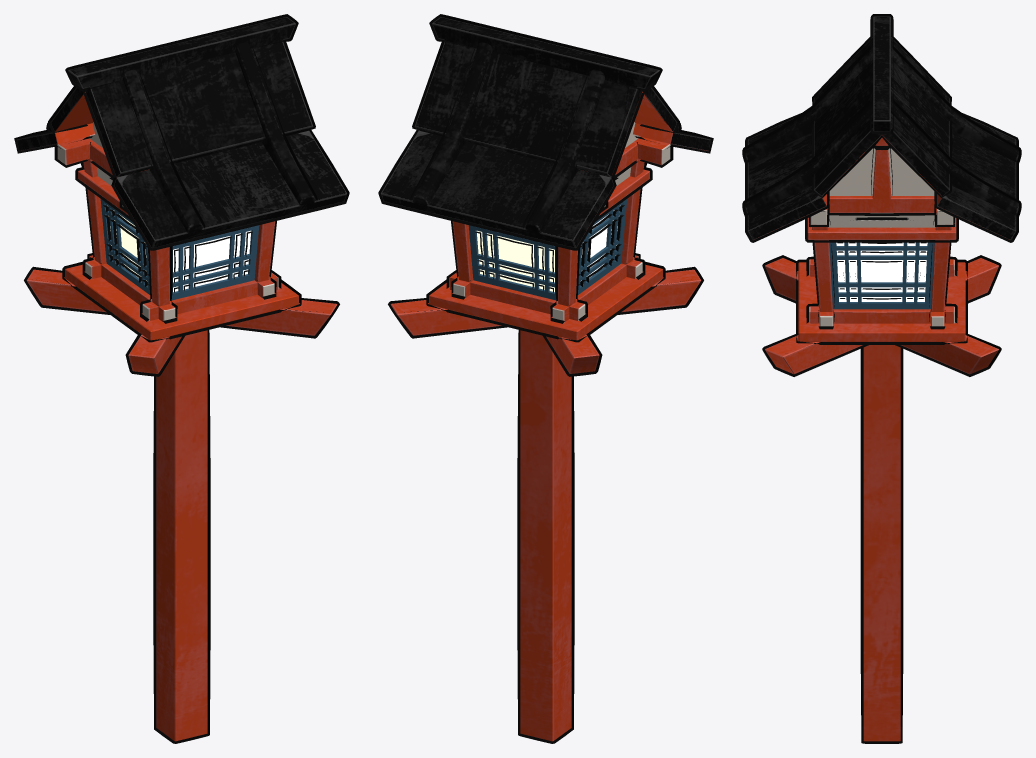
The model's file is Tourou.fbx.
The picture shows the model from 3 angles, left to right: view 1: azimuth 30°, elevation 25°; view 2: azimuth 150°, elevation 25°; view 3: azimuth 270°, elevation 25°; orthographic projection. The views are drawn at different scales.
Visible parts, largest first — view 1: Tourou; view 2: Tourou; view 3: Tourou.
Part boxes in pixels (bbox=[...]): Tourou: bbox=[14, 14, 349, 743]; Tourou: bbox=[378, 14, 713, 743]; Tourou: bbox=[742, 14, 1021, 743].
Size of the model in its own units: 44.6 by 131 by 49.53.
2 materials, 1 textured.
